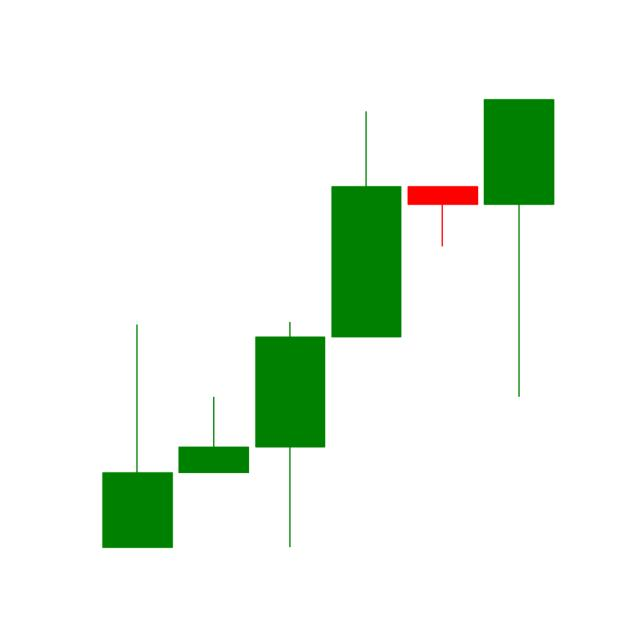Hanging Man: (407, 185, 479, 248)
Inverted Hammer: (100, 320, 172, 549), (178, 396, 250, 473)
